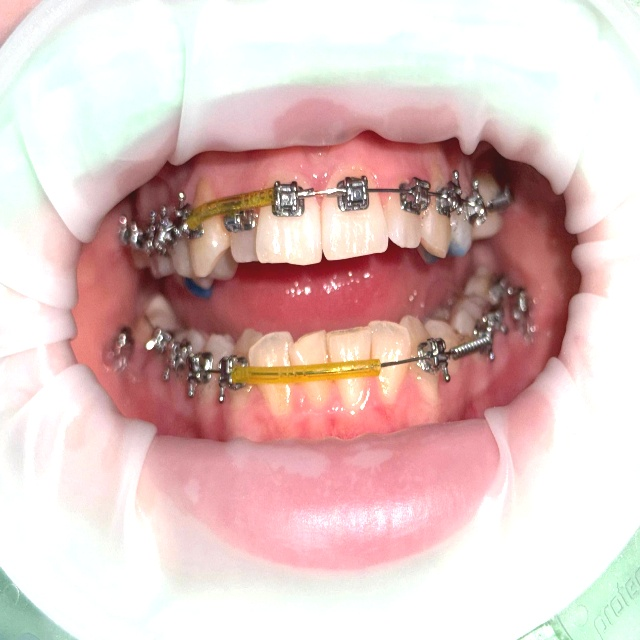clean_tooth: (592, 366, 639, 456), (156, 560, 290, 587), (86, 502, 144, 548), (499, 483, 558, 527), (330, 210, 387, 255), (412, 529, 481, 566), (259, 212, 310, 262), (369, 323, 408, 361), (196, 225, 219, 273), (330, 332, 367, 360), (249, 340, 288, 366), (292, 333, 323, 363)
